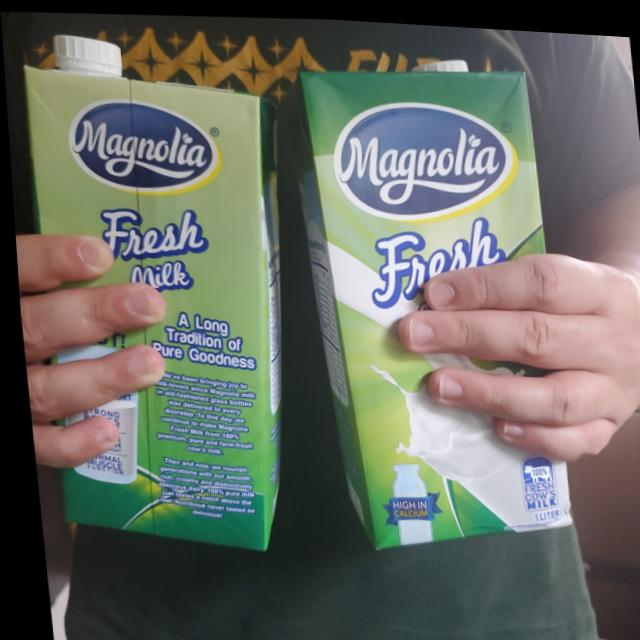milk: (16, 21, 320, 561), (282, 44, 572, 559)
